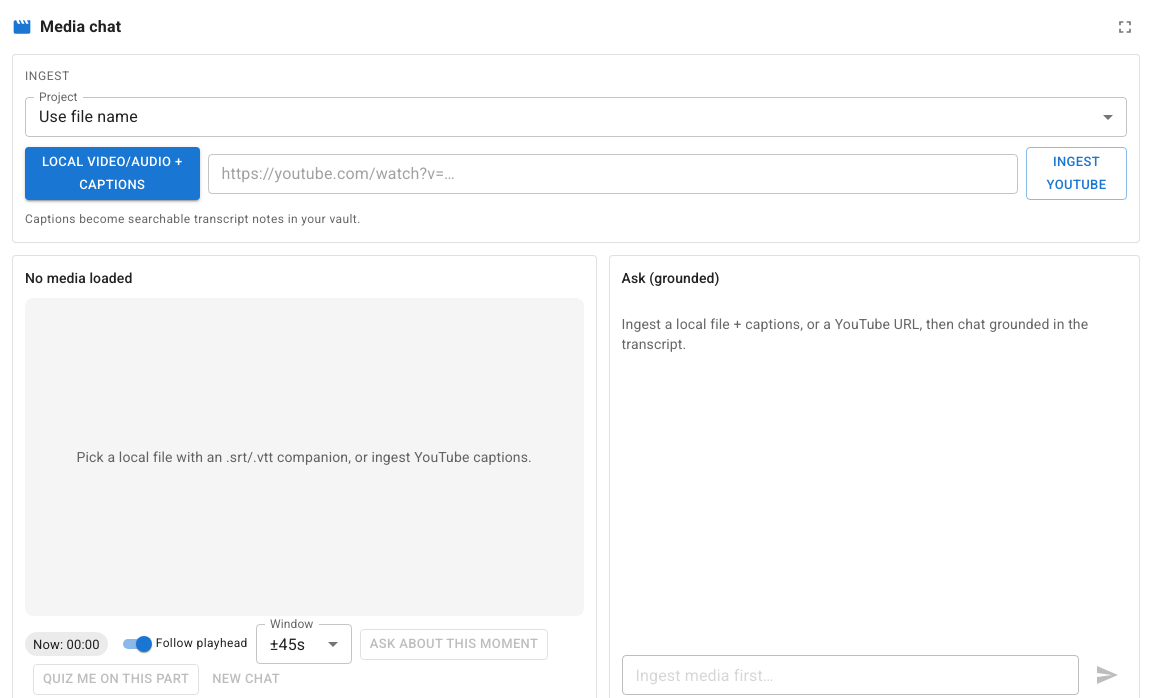
Scenario: MediaChatView › ingests a YouTube URL
The width and height of the screenshot is (1152, 698).
In the field with placeholder "https://youtube.com/watch?v=…": (613, 174) top-left (208, 154), bottom-right (1018, 194), type "https://youtube.com/watch?v=abc123"
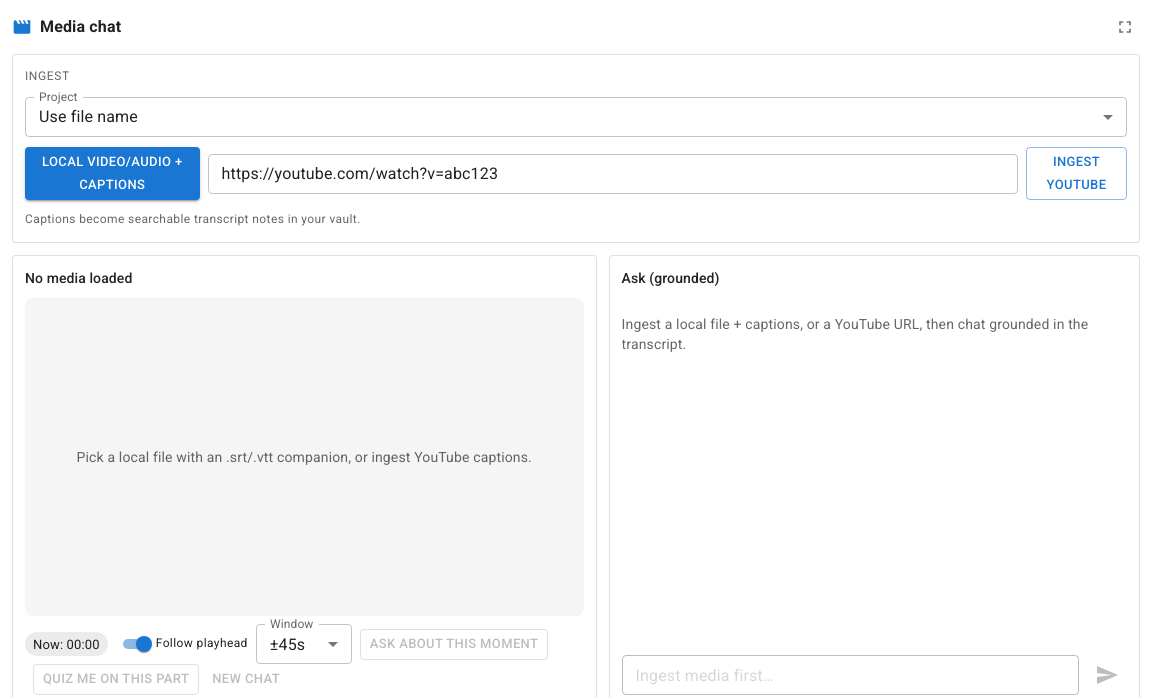
Click the button "Ingest YouTube": (1076, 174) top-left (1026, 147), bottom-right (1127, 200)
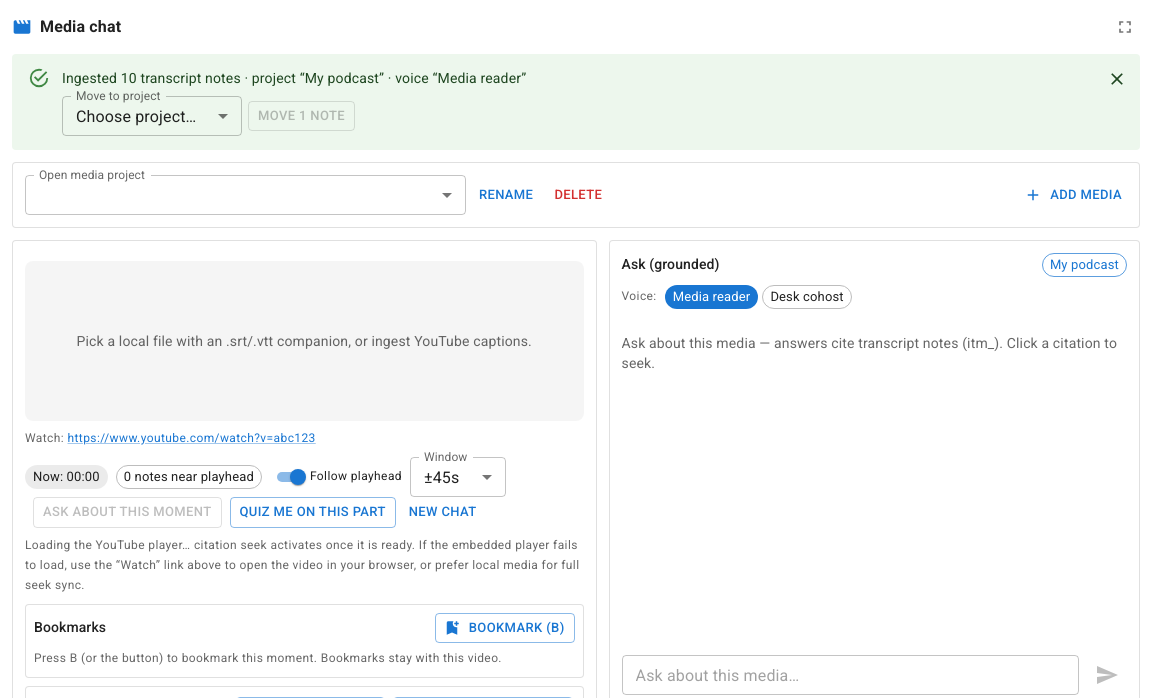
Result: the text "Ingested 10 transcript notes" is shown at top-left (62, 70), bottom-right (526, 86)
